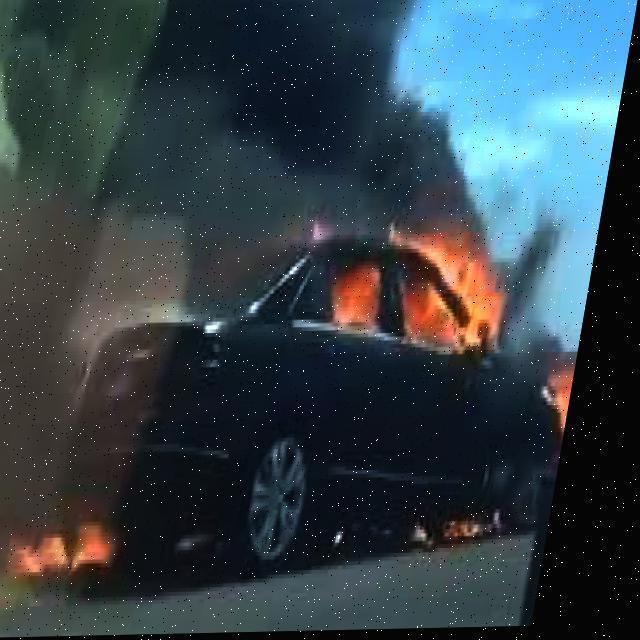Fire: (323, 181, 533, 367), (14, 488, 164, 592), (430, 484, 537, 566), (546, 336, 592, 424)
